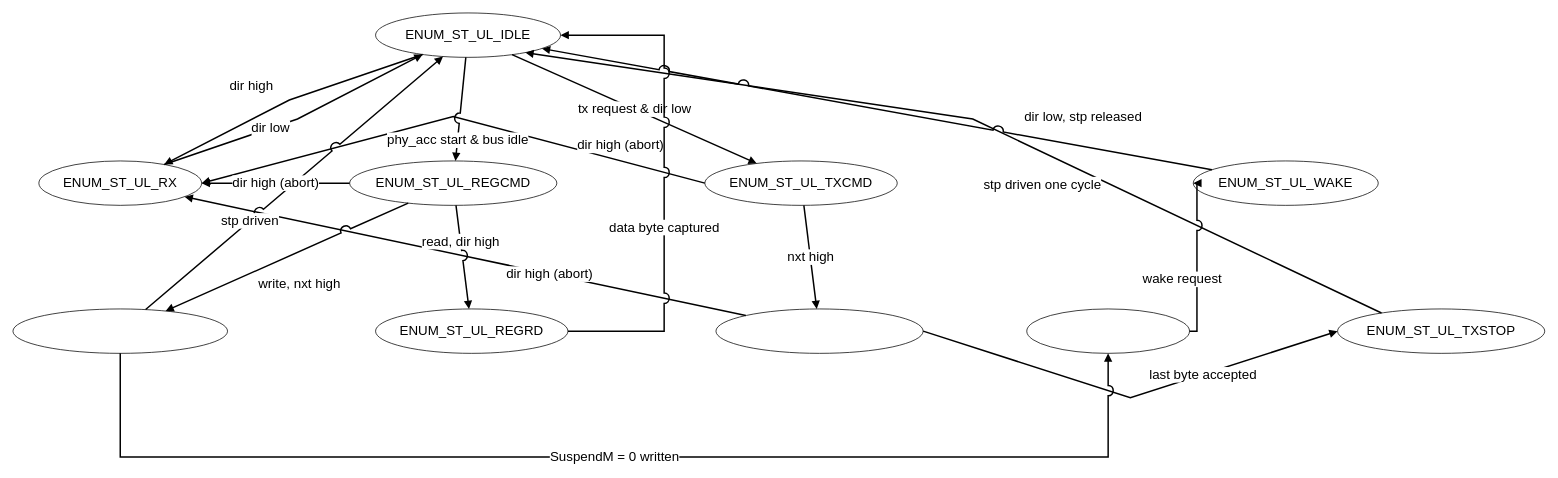
This 1558x478 diagram has some shape labels left out. Each missing label, with the centre of its shape:
"ENUM_ST_UL_LP" goes at pixel 1108 330.
"ENUM_ST_UL_REGDATA" goes at pixel 120 330.
"ENUM_ST_UL_TXDATA" goes at pixel 819 330.
